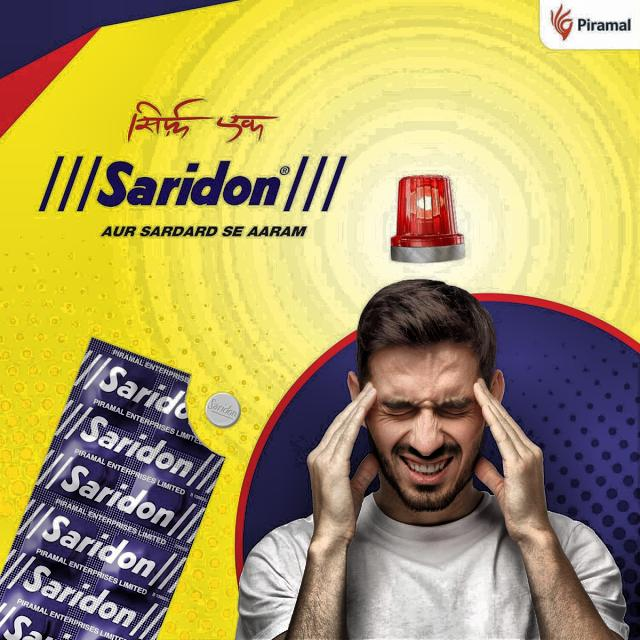Saridon: (37, 111, 368, 273)
